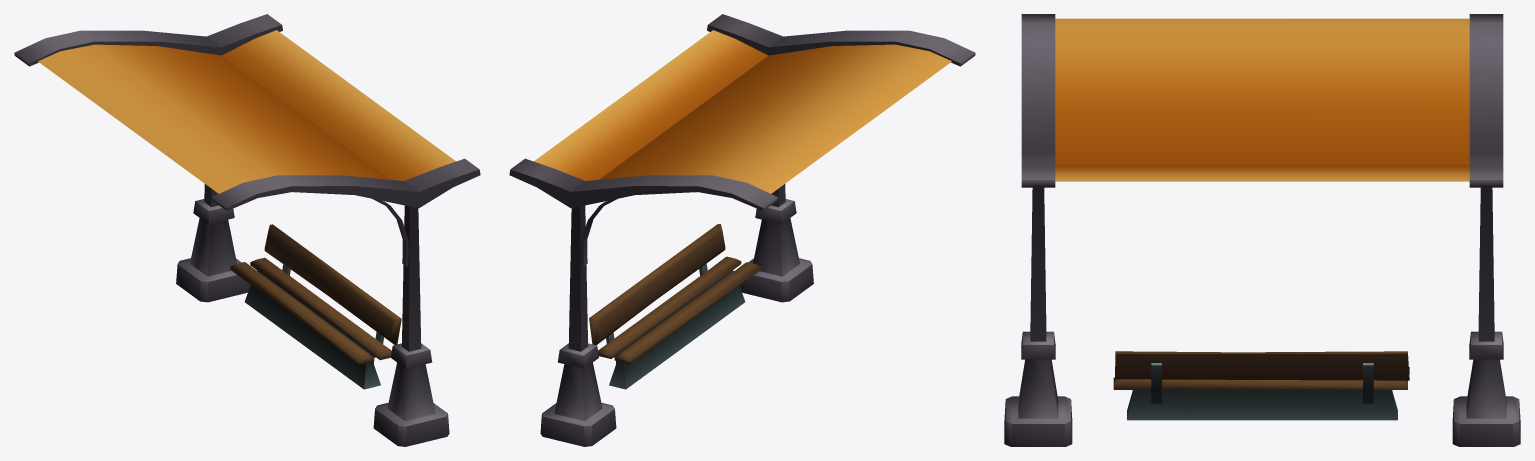
File: Bus_stop.fbx
3 renders of one model, left to right at view 1: azimuth 30°, elevation 25°; view 2: azimuth 150°, elevation 25°; view 3: azimuth 270°, elevation 25°, orthographic. The views are drawn at different scales.
Parts seen in each view (by area): view 1: Object007; view 2: Object007; view 3: Object007.
Part boxes in pixels (x1,y1,x2,y2): Object007: (14,14,480,446); Object007: (509,14,975,446); Object007: (1004,14,1520,446).
Size of the model in its own units: 4098 by 4349 by 6357.
